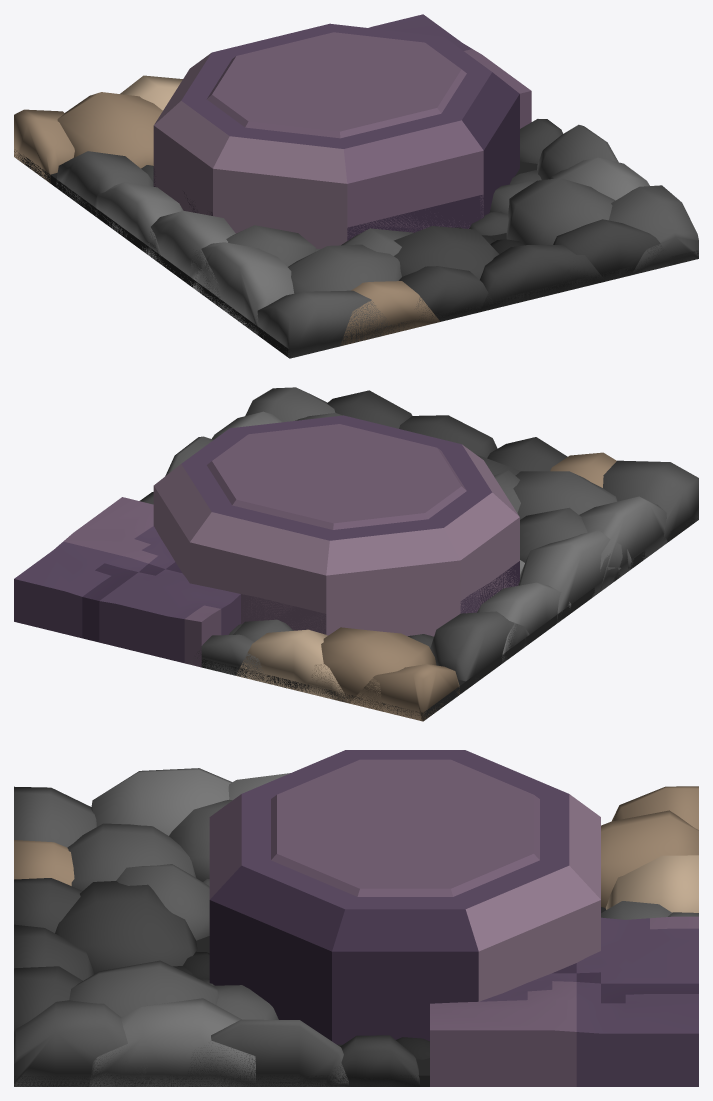
File: purple_pad_bl.glb
The picture shows the model from 3 angles, top to bottom: view 1: azimuth 30°, elevation 25°; view 2: azimuth 150°, elevation 25°; view 3: azimuth 270°, elevation 25°; orthographic projection. The views are drawn at different scales.
Visible parts, largest first — view 1: purple_pad_bl_pad, purple_pad_bl_pad_panel, purple_pad_bl_rocks_19, purple_pad_bl_rocks_1, purple_pad_bl_rocks_15, purple_pad_bl_rocks_22, purple_pad_bl_rocks_8, purple_pad_bl_floor, purple_pad_bl_rocks_17, purple_pad_bl_rocks_base, purple_pad_bl_rocks_28, purple_pad_bl_rocks_11 (+15 smaller); view 2: purple_pad_bl_pad, purple_pad_bl_floor, purple_pad_bl_pad_panel, purple_pad_bl_rocks_15, purple_pad_bl_rocks_2, purple_pad_bl_rocks_6, purple_pad_bl_rocks_13, purple_pad_bl_rocks_19, purple_pad_bl_rocks_1, purple_pad_bl_rocks_9, purple_pad_bl_rocks_11, purple_pad_bl_rocks_base (+12 smaller); view 3: purple_pad_bl_pad, purple_pad_bl_floor, purple_pad_bl_pad_panel, purple_pad_bl_rocks_0, purple_pad_bl_rocks_23, purple_pad_bl_rocks_17, purple_pad_bl_rocks_3, purple_pad_bl_rocks_1, purple_pad_bl_rocks_11, purple_pad_bl_rocks_15, purple_pad_bl_rocks_8, purple_pad_bl_rocks_6 (+15 smaller).
Boxes of the visible parts, box(x1,y1,x2,y2) form: purple_pad_bl_pad: box(153, 23, 519, 248); purple_pad_bl_pad_panel: box(207, 32, 466, 138); purple_pad_bl_rocks_19: box(256, 290, 393, 358); purple_pad_bl_rocks_1: box(190, 242, 294, 335); purple_pad_bl_rocks_15: box(57, 92, 162, 168); purple_pad_bl_rocks_22: box(480, 245, 605, 312); purple_pad_bl_rocks_8: box(506, 178, 615, 245); purple_pad_bl_floor: box(153, 14, 531, 240); purple_pad_bl_rocks_17: box(609, 185, 698, 274); purple_pad_bl_rocks_base: box(14, 151, 698, 358); purple_pad_bl_rocks_28: box(553, 219, 676, 293); purple_pad_bl_rocks_11: box(288, 244, 401, 293); purple_pad_bl_pad: box(153, 415, 519, 636); purple_pad_bl_floor: box(14, 497, 519, 667); purple_pad_bl_pad_panel: box(207, 424, 466, 529); purple_pad_bl_rocks_15: box(311, 627, 436, 711); purple_pad_bl_rocks_2: box(518, 530, 632, 623); purple_pad_bl_rocks_6: box(236, 629, 350, 703); purple_pad_bl_rocks_13: box(430, 611, 529, 683); purple_pad_bl_rocks_19: box(603, 460, 698, 542); purple_pad_bl_rocks_1: box(579, 496, 667, 591); purple_pad_bl_rocks_9: box(350, 664, 459, 721); purple_pad_bl_rocks_11: box(513, 471, 617, 519); purple_pad_bl_rocks_base: box(201, 513, 697, 720); purple_pad_bl_pad: box(209, 750, 600, 1042); purple_pad_bl_floor: box(332, 916, 698, 1086); purple_pad_bl_pad_panel: box(271, 759, 539, 896); purple_pad_bl_rocks_0: box(89, 998, 256, 1086); purple_pad_bl_rocks_23: box(55, 881, 197, 973); purple_pad_bl_rocks_17: box(14, 1000, 147, 1086); purple_pad_bl_rocks_3: box(185, 1019, 349, 1086); purple_pad_bl_rocks_1: box(91, 768, 232, 835); purple_pad_bl_rocks_11: box(67, 823, 196, 890); purple_pad_bl_rocks_15: box(601, 810, 698, 907); purple_pad_bl_rocks_8: box(69, 960, 218, 1017); purple_pad_bl_rocks_6: box(605, 855, 698, 912).
Size of the model in its own units: 24 by 6.25 by 28.
